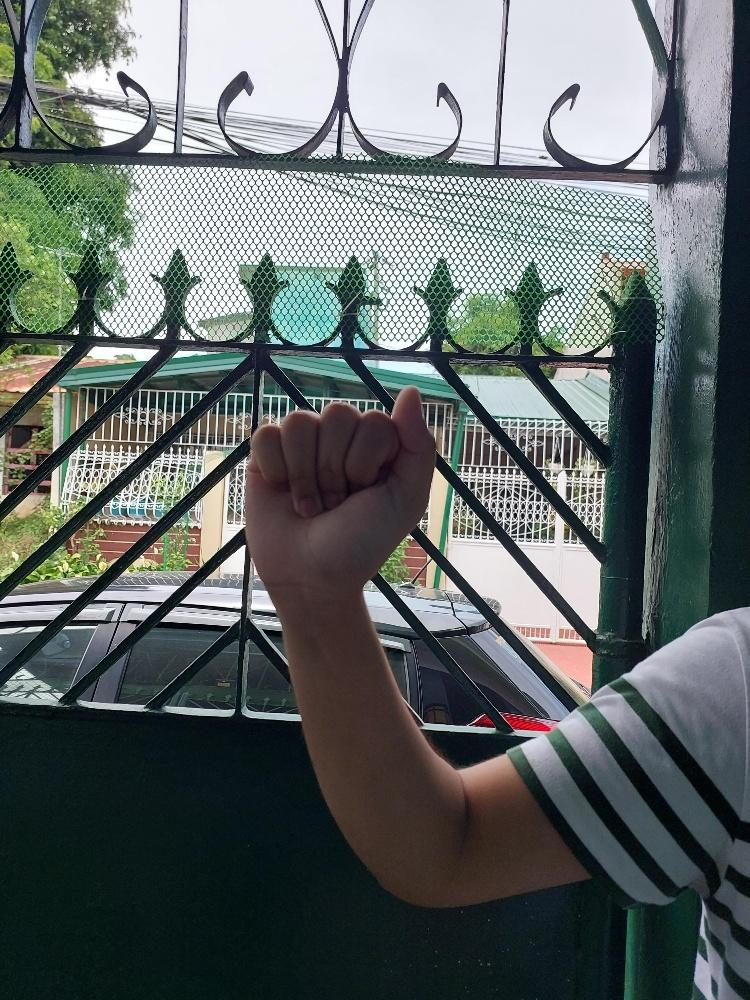a: (238, 378, 439, 603)
